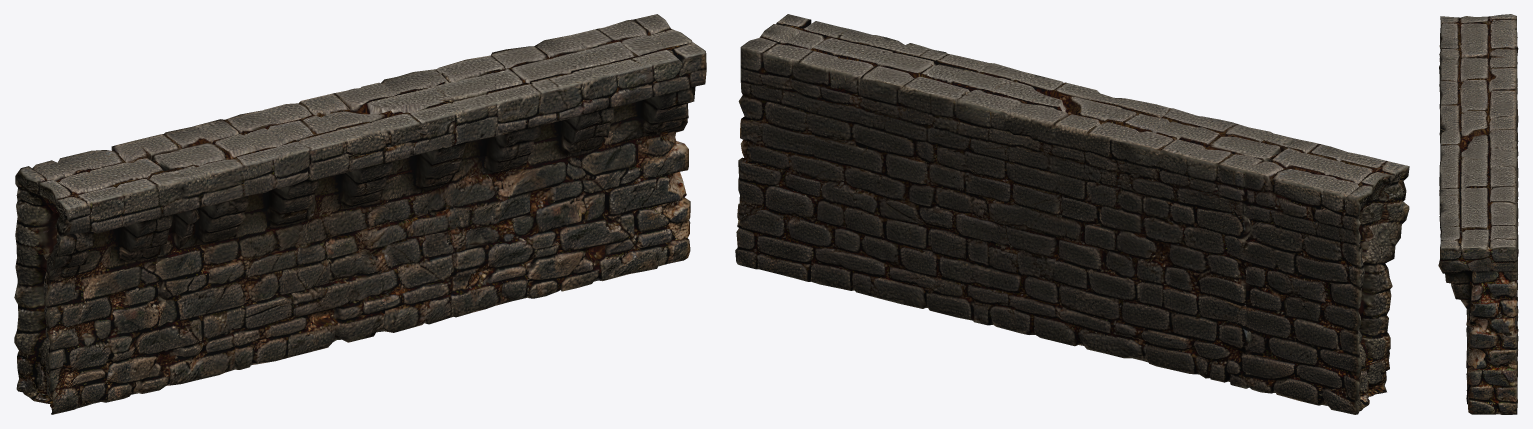
The model's file is prison_frieze_brick.glb.
3 views of the same model, side by side, from view 1: azimuth 30°, elevation 25°; view 2: azimuth 150°, elevation 25°; view 3: azimuth 270°, elevation 25° (orthographic). The views are drawn at different scales.
Parts seen in each view (by area): view 1: tripo_node_1fa4acb8-db09-497b-8005-99167d9a066d; view 2: tripo_node_1fa4acb8-db09-497b-8005-99167d9a066d; view 3: tripo_node_1fa4acb8-db09-497b-8005-99167d9a066d.
Part boxes in pixels (box(x1,y1,x2,y2)): tripo_node_1fa4acb8-db09-497b-8005-99167d9a066d: box(14, 14, 706, 414); tripo_node_1fa4acb8-db09-497b-8005-99167d9a066d: box(735, 14, 1409, 414); tripo_node_1fa4acb8-db09-497b-8005-99167d9a066d: box(1438, 14, 1518, 414).
Size of the model in its own units: 1 by 0.3309 by 0.1434.
Materials: 1 (1 with a texture image).
